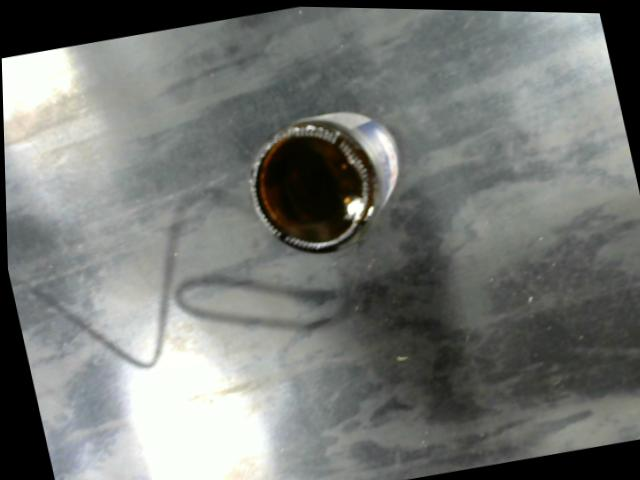glass: (243, 102, 407, 256)
